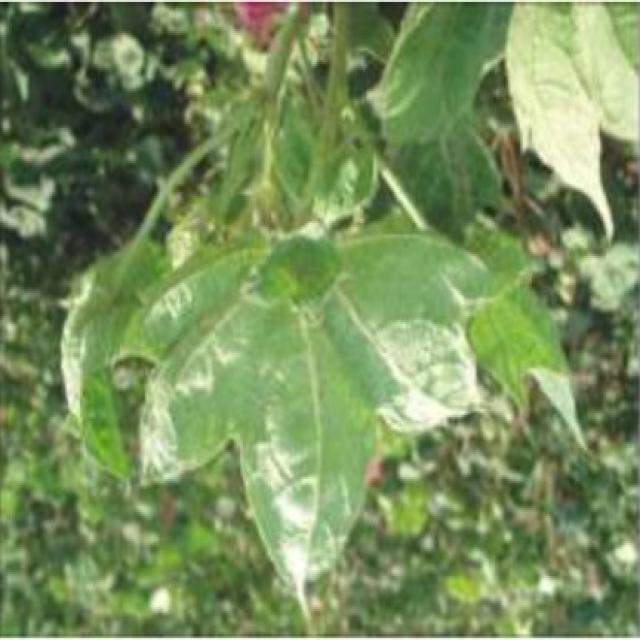Leaf Curl Virus: (177, 222, 442, 430)
